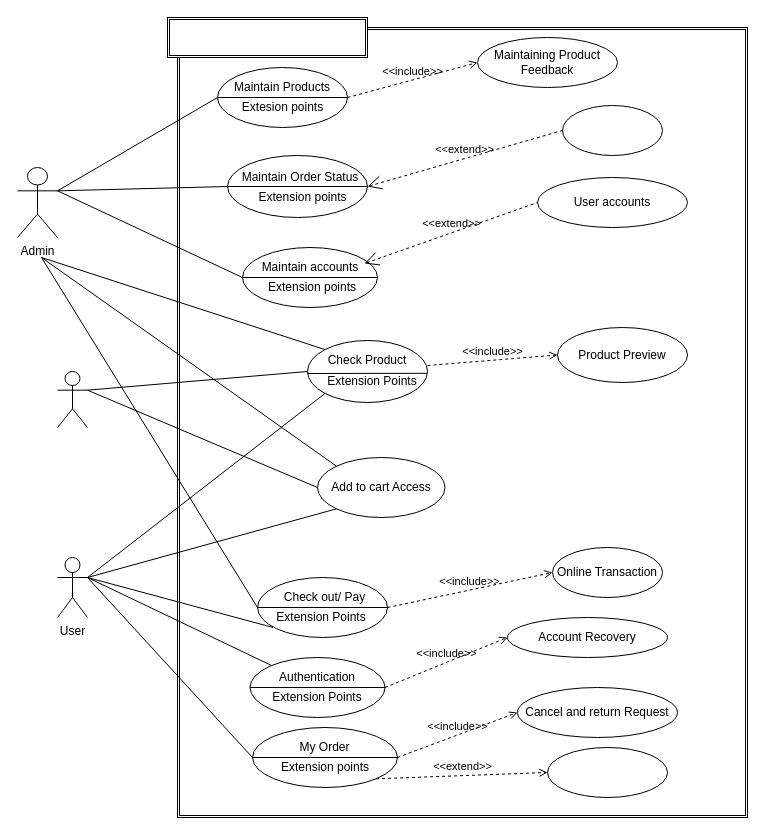
This 765x835 diagram has some shape labels left out. Each missing label, with the centre of its shape:
Anonymous User and Web Crawler: point (72, 399)
E-commerce shopping website: point (267, 37)
Order: point (612, 130)
Product Feedback: point (607, 772)
